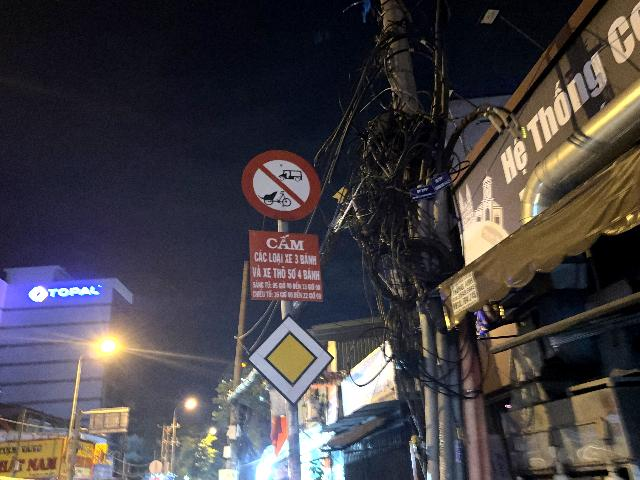bat-dau-duong-uu-tien: (246, 313, 334, 408)
cam-xe-3-banh-xe-tho-so-4-banh: (241, 149, 322, 221)
